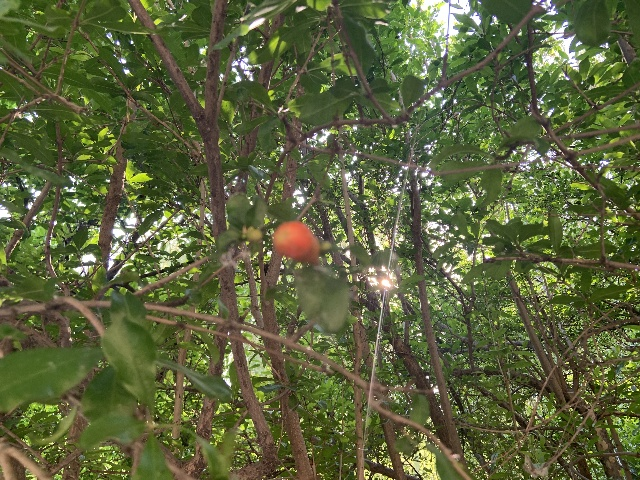bud: (273, 221, 321, 264)
